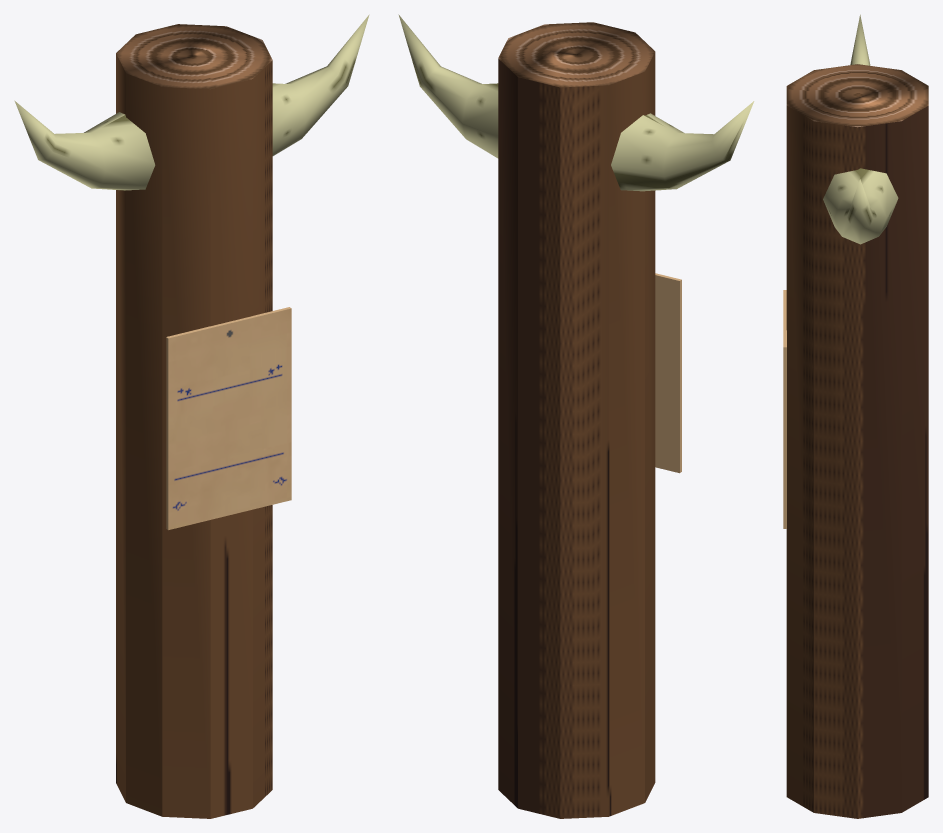
File: Poste Caza.fbx
The picture shows the model from 3 angles, left to right: view 1: azimuth 30°, elevation 25°; view 2: azimuth 150°, elevation 25°; view 3: azimuth 270°, elevation 25°; orthographic projection. The views are drawn at different scales.
Visible parts, largest first — view 1: Poste Caza; view 2: Poste Caza; view 3: Poste Caza.
Part boxes in pixels (x1,y1,x2,y2): Poste Caza: (14,14,369,818); Poste Caza: (398,14,754,818); Poste Caza: (783,14,928,818).
Size of the model in its own units: 576 by 216 by 1130.
3 materials, 3 textured.
